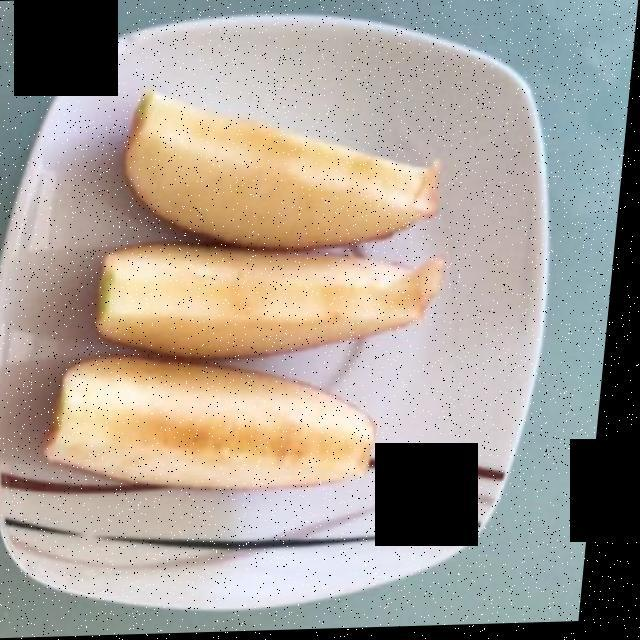apple: (64, 105, 445, 483)
